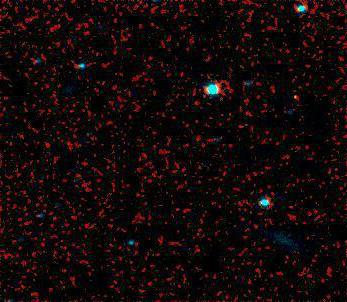star: (282, 82, 312, 112)
